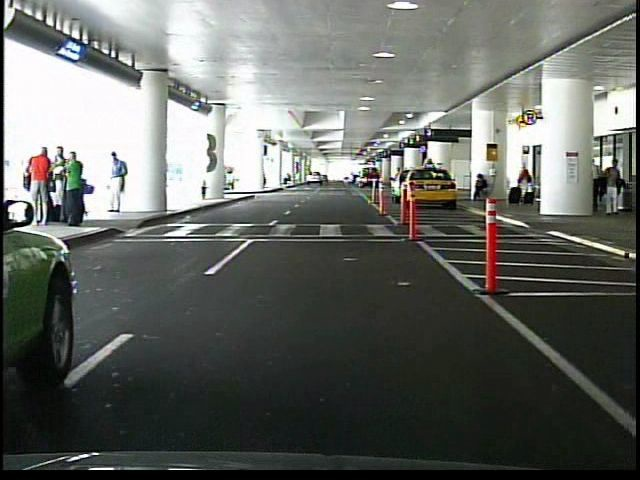person: (65, 150, 89, 229), (106, 151, 131, 216), (599, 154, 624, 217), (34, 148, 56, 217), (56, 144, 71, 212), (517, 160, 534, 206), (472, 171, 490, 201)
